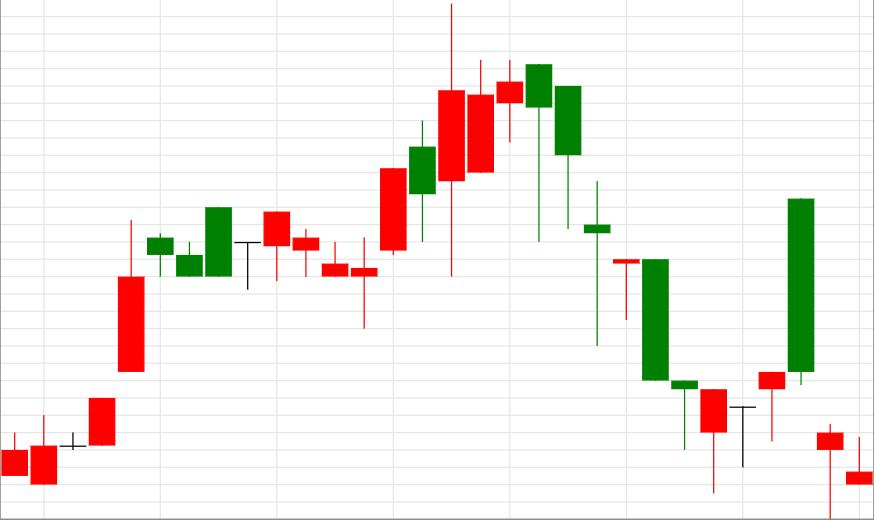hammer_rise: (555, 86, 727, 493)
hanging_man_fall: (352, 3, 552, 329)
